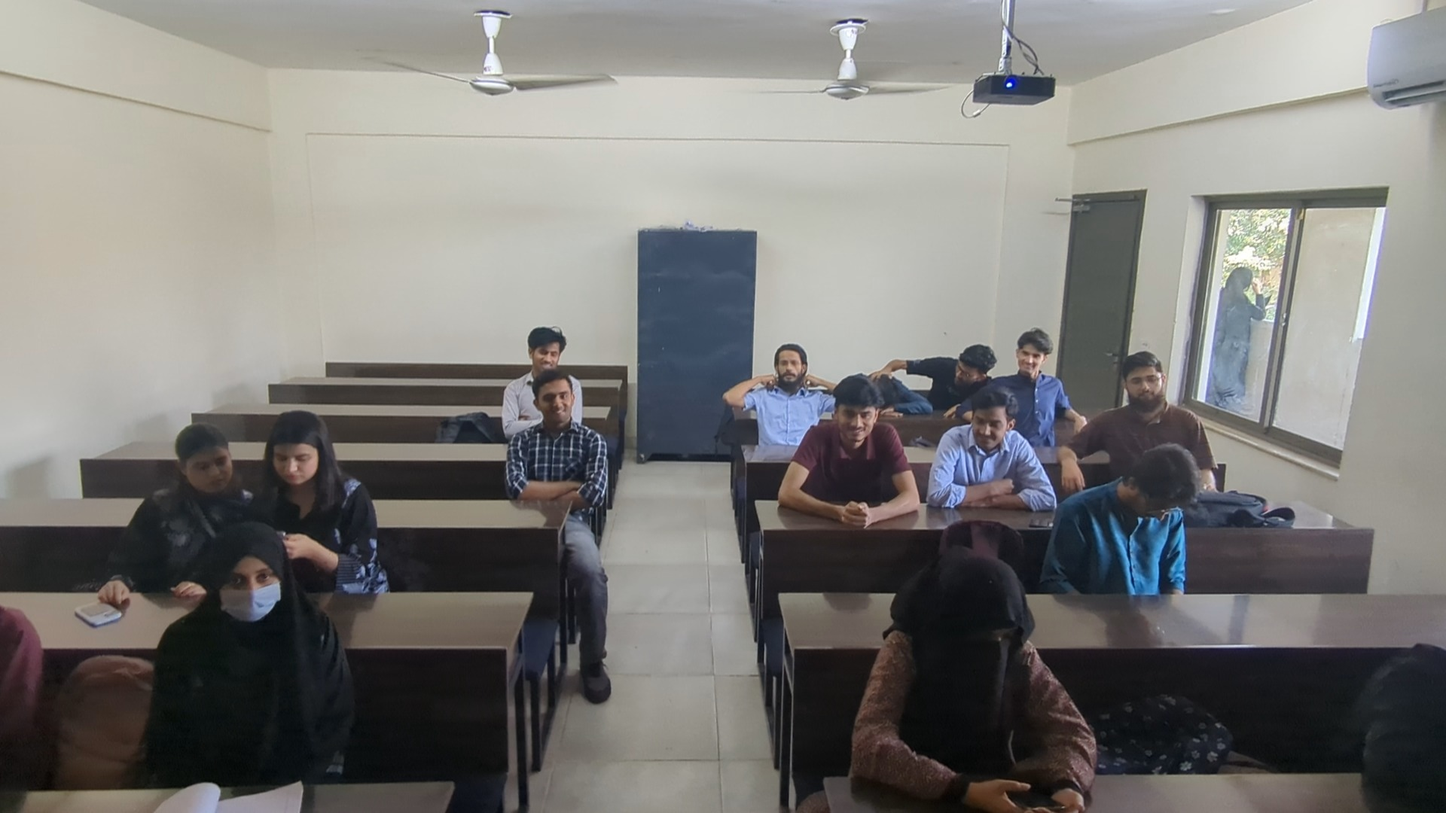look_forward: (193, 510, 293, 669), (1104, 342, 1221, 445), (521, 382, 608, 491), (960, 391, 1033, 488), (531, 299, 600, 391), (771, 312, 824, 419), (821, 372, 873, 469)
sleep: (871, 360, 928, 424)
turn_head: (942, 332, 995, 407)
using_device: (922, 555, 1075, 813), (136, 396, 293, 557), (1066, 450, 1229, 602), (257, 411, 396, 579)
